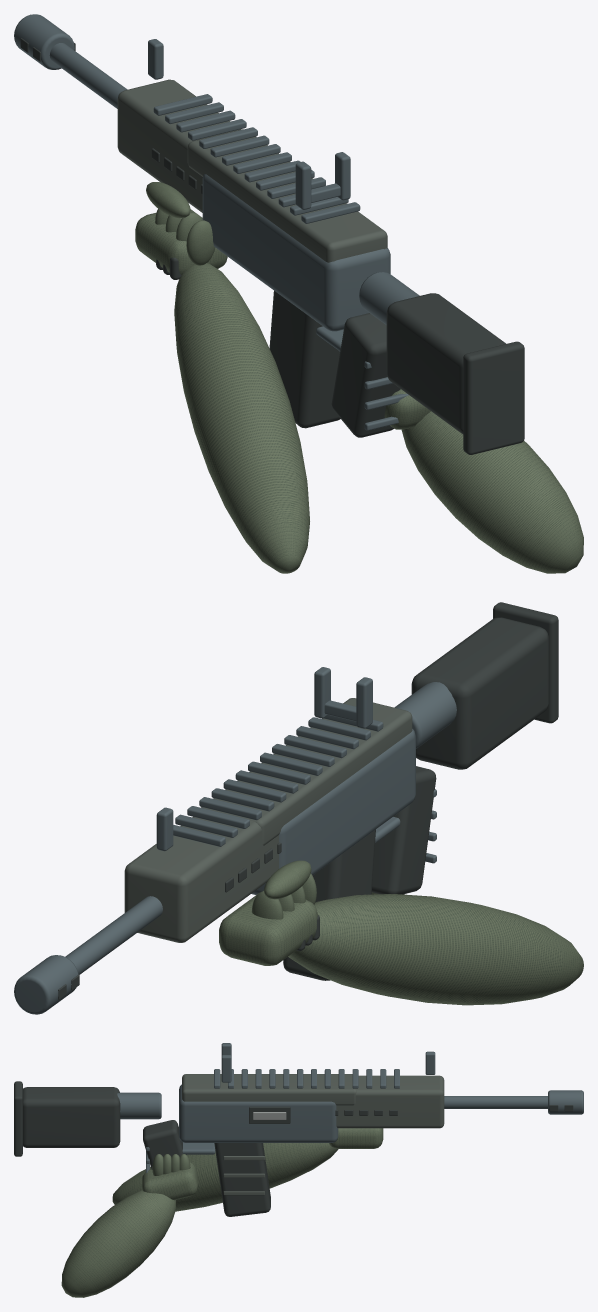
The model's file is weapon_0.glb.
3 renders of one model, top to bottom at view 1: azimuth 30°, elevation 25°; view 2: azimuth 150°, elevation 25°; view 3: azimuth 270°, elevation 25°, orthographic. The views are drawn at different scales.
Parts seen in each view (by area): view 1: Left sleeve, Right sleeve, Receiver, Adjustable stock, Upper receiver, Recoil pad, Handguard, Magazine, Pistol grip, Support hand, Free floated barrel, Muzzle brake (+5 smaller); view 2: Left sleeve, Adjustable stock, Handguard, Receiver, Upper receiver, Pistol grip, Support hand, Magazine, Free floated barrel, Muzzle brake, Buffer tube, Recoil pad (+18 smaller); view 3: Right sleeve, Receiver, Adjustable stock, Handguard, Left sleeve, Upper receiver, Magazine, Trigger hand, Free floated barrel, Pistol grip, Buffer tube, Support hand (+4 smaller).
Boxes of the visible parts, box(x1,y1,x2,y2) form: Left sleeve: box(174, 263, 309, 573); Right sleeve: box(401, 411, 583, 573); Receiver: box(202, 174, 390, 331); Adjustable stock: box(386, 293, 506, 434); Upper receiver: box(187, 129, 387, 262); Recoil pad: box(463, 341, 524, 454); Handguard: box(117, 79, 240, 212); Magazine: box(269, 291, 340, 428); Pistol grip: box(331, 313, 400, 437); Support hand: box(135, 209, 227, 274); Free floated barrel: box(49, 43, 127, 108); Muzzle brake: box(14, 14, 74, 69); Left sleeve: box(288, 894, 583, 1005); Adjustable stock: box(411, 617, 548, 769); Handguard: box(124, 816, 278, 942); Receiver: box(251, 729, 415, 894); Upper receiver: box(201, 698, 412, 845); Pistol grip: box(371, 766, 436, 894); Support hand: box(219, 893, 318, 965); Magazine: box(283, 829, 375, 980); Free floated barrel: box(65, 896, 162, 974); Muzzle brake: box(14, 955, 78, 1014); Buffer tube: box(394, 682, 456, 748); Recoil pad: box(493, 602, 558, 723); Right sleeve: box(61, 1190, 175, 1297); Receiver: box(179, 1084, 338, 1142); Adjustable stock: box(23, 1087, 120, 1147); Handguard: box(336, 1075, 444, 1128); Left sleeve: box(112, 1143, 338, 1211); Upper receiver: box(182, 1074, 356, 1105); Magazine: box(214, 1143, 270, 1216); Trigger hand: box(142, 1162, 197, 1200); Free floated barrel: box(444, 1096, 547, 1108); Pistol grip: box(143, 1120, 186, 1169); Buffer tube: box(117, 1092, 161, 1119); Support hand: box(329, 1128, 383, 1148).
Size of the model in its own units: 0.3579 by 0.426 by 1.03.
Materials: 6 (2 with a texture image).
